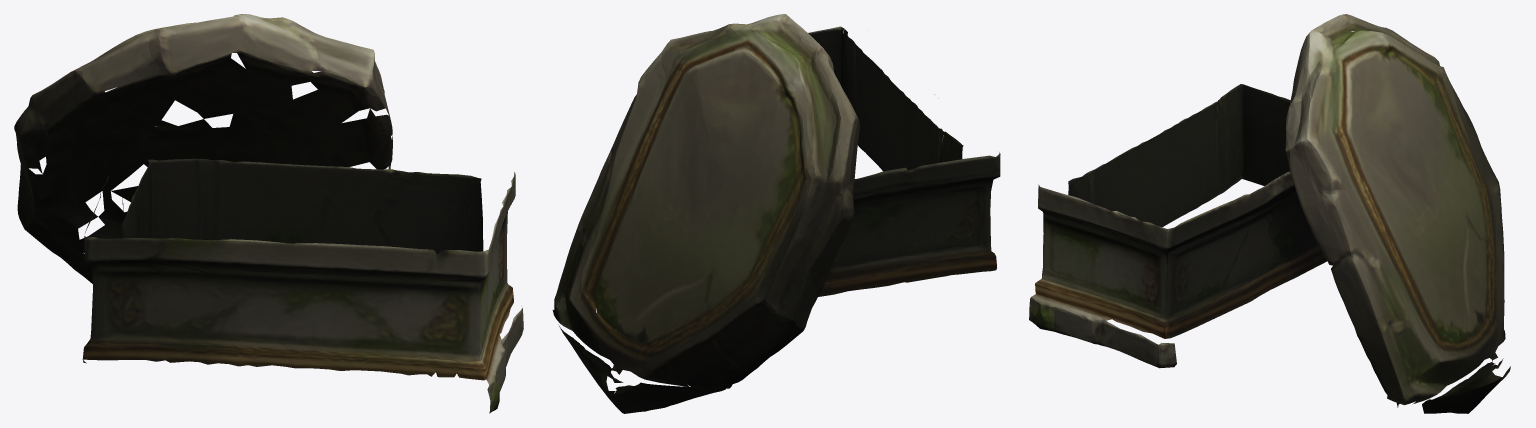
File: coffin_open.glb
3 views of the same model, side by side, from view 1: azimuth 30°, elevation 25°; view 2: azimuth 150°, elevation 25°; view 3: azimuth 270°, elevation 25° (orthographic). The views are drawn at different scales.
Parts seen in each view (by area): view 1: world; view 2: world; view 3: world.
Part boxes in pixels (<box>): world: <box>14,14,523,413</box>; world: <box>552,14,1000,413</box>; world: <box>1029,14,1510,413</box>.
Bounding box in the file's own units: 0.4732 × 0.4527 × 0.5856.
1 material, 1 textured.
